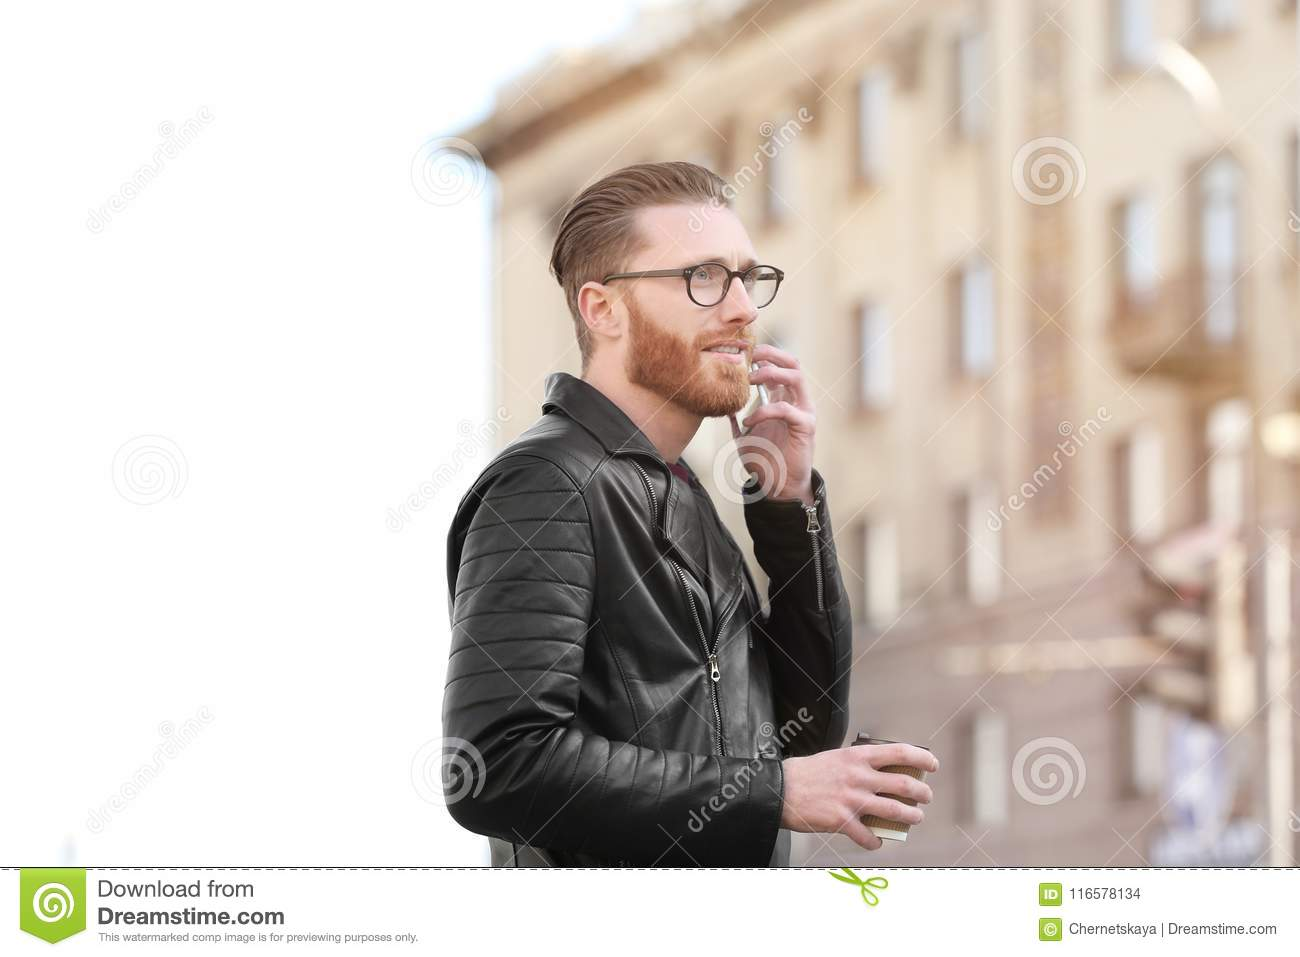phone: (726, 327, 776, 446)
talk: (665, 240, 822, 504)
